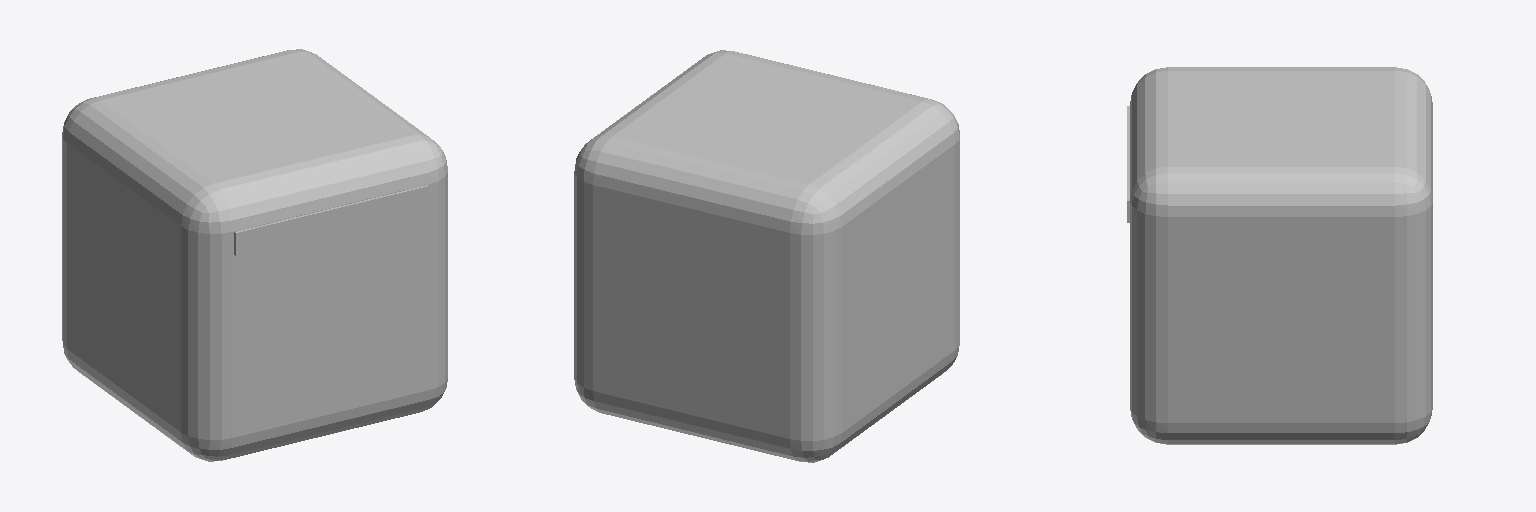
The picture shows the model from 3 angles: view 1: azimuth 30°, elevation 25°; view 2: azimuth 150°, elevation 25°; view 3: azimuth 270°, elevation 25°; orthographic projection.
Parts seen in each view (by area): view 1: Cube, Glowing_Arrow_Cube.004; view 2: Cube; view 3: Cube.
Part boxes in pixels (x1,y1,x2,y2): Cube: (62,49,447,461); Glowing_Arrow_Cube.004: (234,185,428,255); Cube: (574,50,959,462); Cube: (1130,67,1432,444).
Bounding box in the file's own units: 1 × 1 × 1.01.